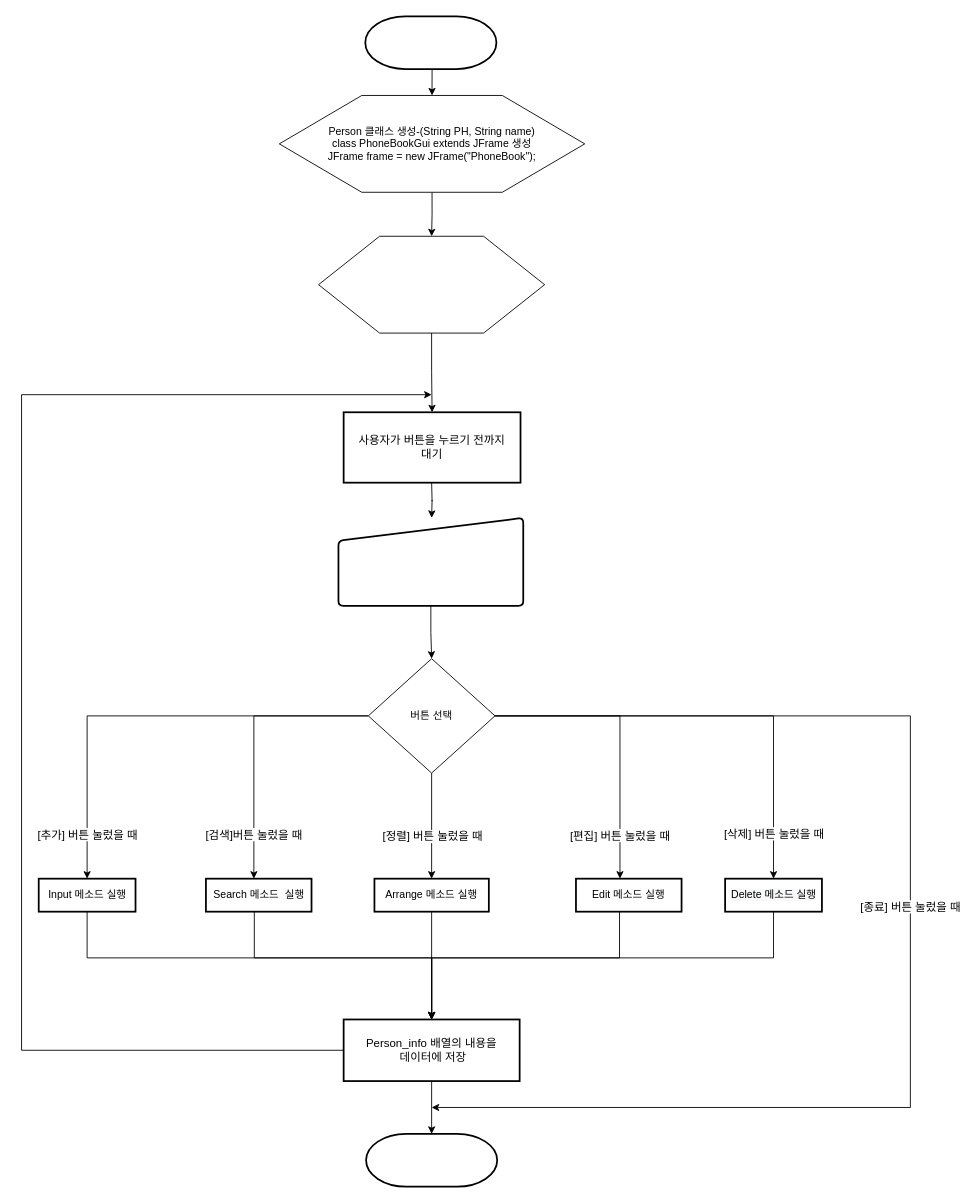
The diagram is 975 pixels wide and 1202 high, and some of its shapes have lost their labels. Each missing label, with the centre of its shape:
"End" goes at point (431, 1160).
"Start" goes at point (430, 42).
"Vector<Person> v = new Vector <Person>();" goes at point (431, 284).
"기능을 수행할 사람의 이름, 정보 입력" goes at point (430, 561).
